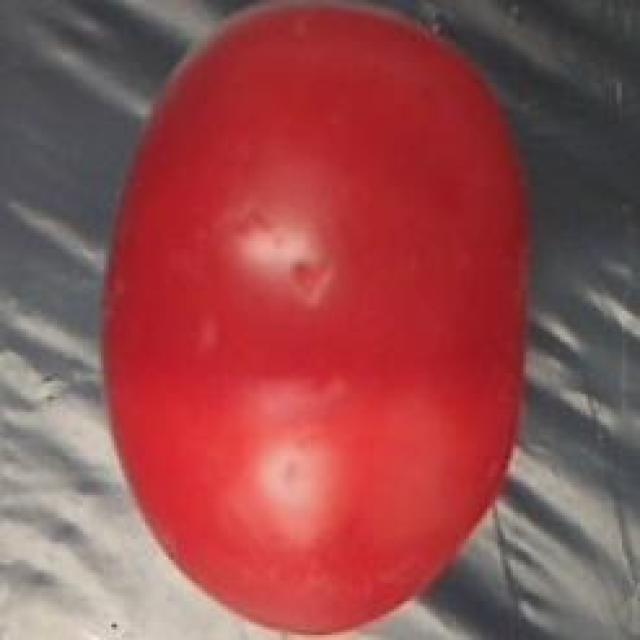ripe tomato: (70, 0, 547, 640)
